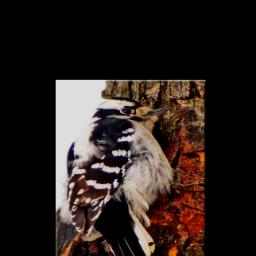Woodpecker: (59, 93, 204, 256)
